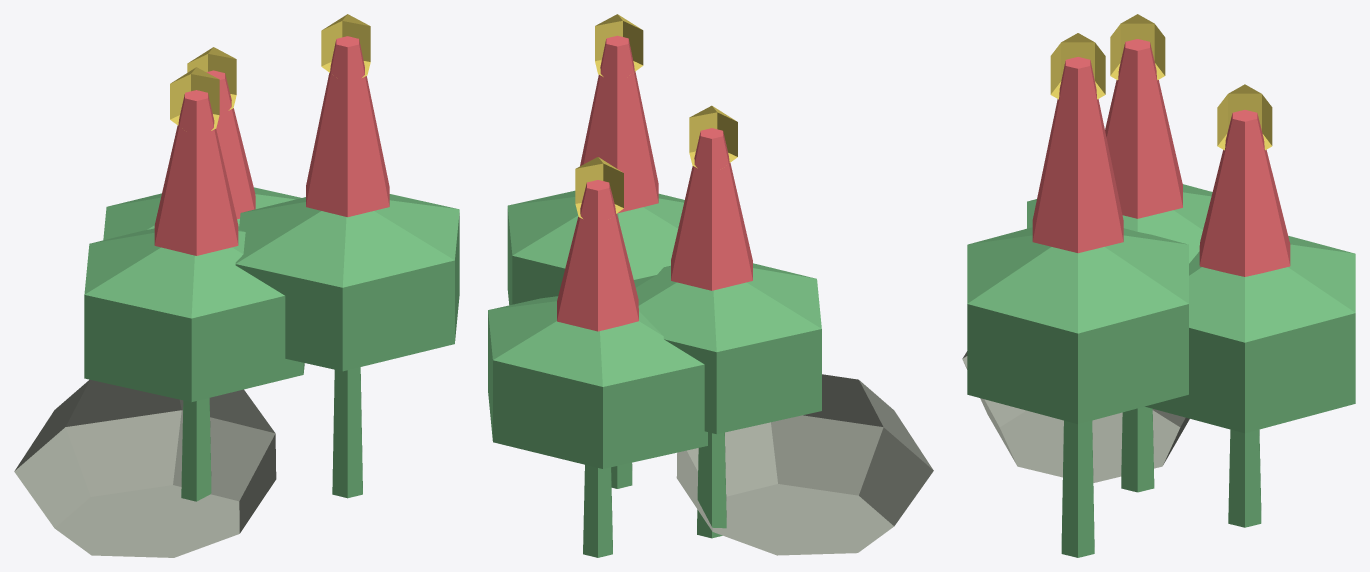
File: flora_32_canna_indica_and_gunnera_suoi_can_wetland_cluster.glb
3 views of the same model, side by side, from view 1: azimuth 30°, elevation 25°; view 2: azimuth 150°, elevation 25°; view 3: azimuth 270°, elevation 25° (orthographic). The views are drawn at different scales.
Visible parts, largest first — view 1: flora_32_canna_indica_and_gunnera_suoi_can_wetland_cluster; view 2: flora_32_canna_indica_and_gunnera_suoi_can_wetland_cluster; view 3: flora_32_canna_indica_and_gunnera_suoi_can_wetland_cluster.
Boxes of the visible parts, x1,y1,x2,y2 form: flora_32_canna_indica_and_gunnera_suoi_can_wetland_cluster: (14,14,459,557); flora_32_canna_indica_and_gunnera_suoi_can_wetland_cluster: (488,14,933,557); flora_32_canna_indica_and_gunnera_suoi_can_wetland_cluster: (962,14,1355,557).
Size of the model in its own units: 2.17 by 2.46 by 1.65.
